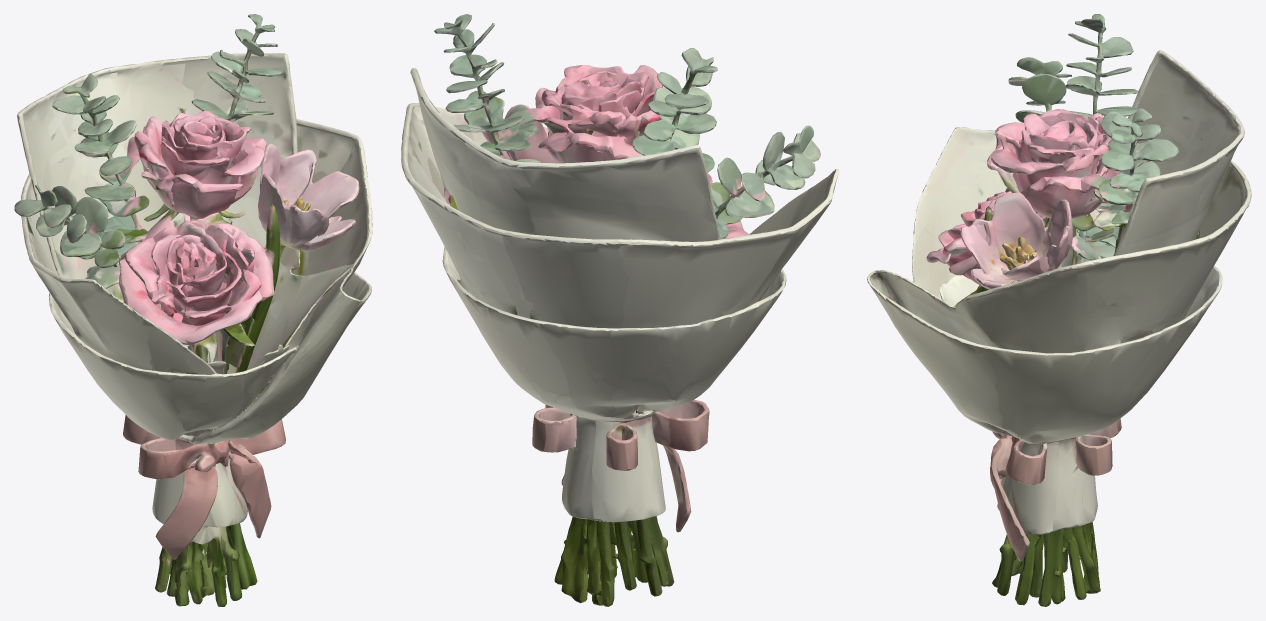
File: morning-letter.glb
3 renders of one model, left to right at view 1: azimuth 30°, elevation 25°; view 2: azimuth 150°, elevation 25°; view 3: azimuth 270°, elevation 25°, orthographic. The views are drawn at different scales.
Parts seen in each view (by area): view 1: 清晨来信 · Lux3D 整束; view 2: 清晨来信 · Lux3D 整束; view 3: 清晨来信 · Lux3D 整束.
Part boxes in pixels (x1,y1,x2,y2): 清晨来信 · Lux3D 整束: [14, 14, 372, 606]; 清晨来信 · Lux3D 整束: [401, 14, 838, 606]; 清晨来信 · Lux3D 整束: [867, 14, 1251, 606].
Size of the model in its own units: 0.3196 by 0.45 by 0.297.
Materials: 1 (1 with a texture image).
